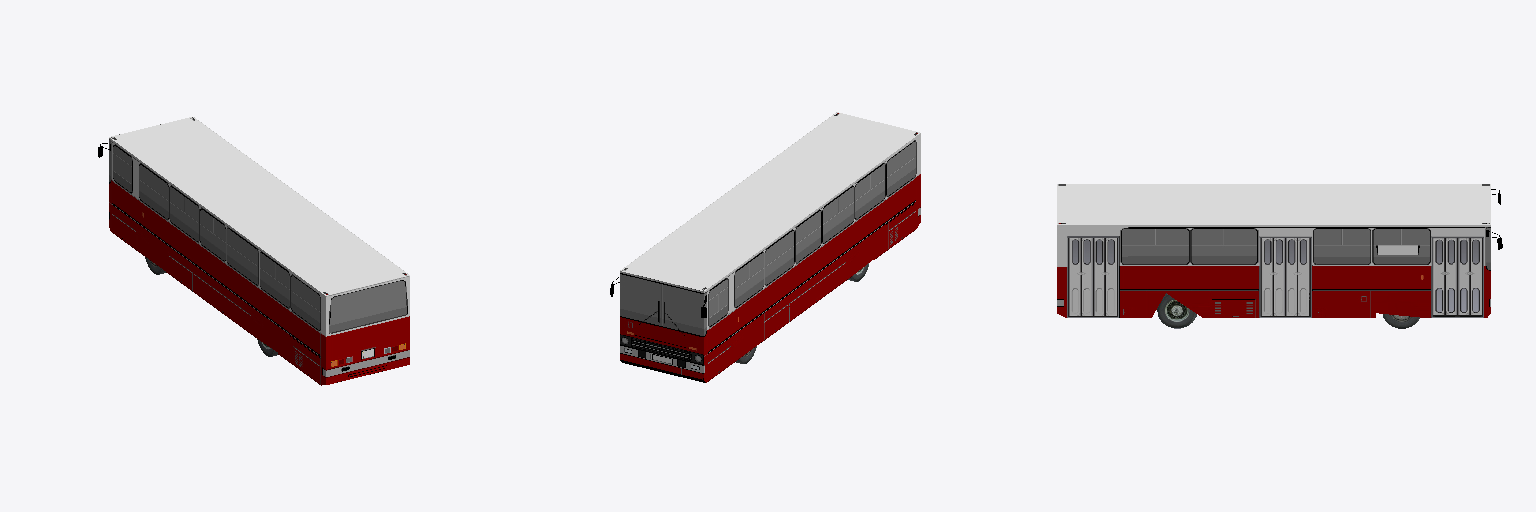
3 views of the same model, side by side, from view 1: azimuth 30°, elevation 25°; view 2: azimuth 150°, elevation 25°; view 3: azimuth 270°, elevation 25° (orthographic).
Parts seen in each view (by area): view 1: Box018; view 2: Box018; view 3: Box018, Cylinder005.
Part boxes in pixels (x1,y1,x2,y2): Box018: (109,117,409,385); Box018: (620,112,920,382); Box018: (1057,184,1490,317); Cylinder005: (1157,293,1196,328).
Bounding box in the file's own units: 3.22 × 3.3 × 12.88.
2 materials, 2 textured.